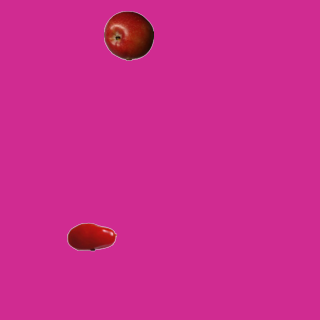Apple Braeburn: (103, 10, 153, 60)
Tomato 2: (66, 211, 116, 261)
